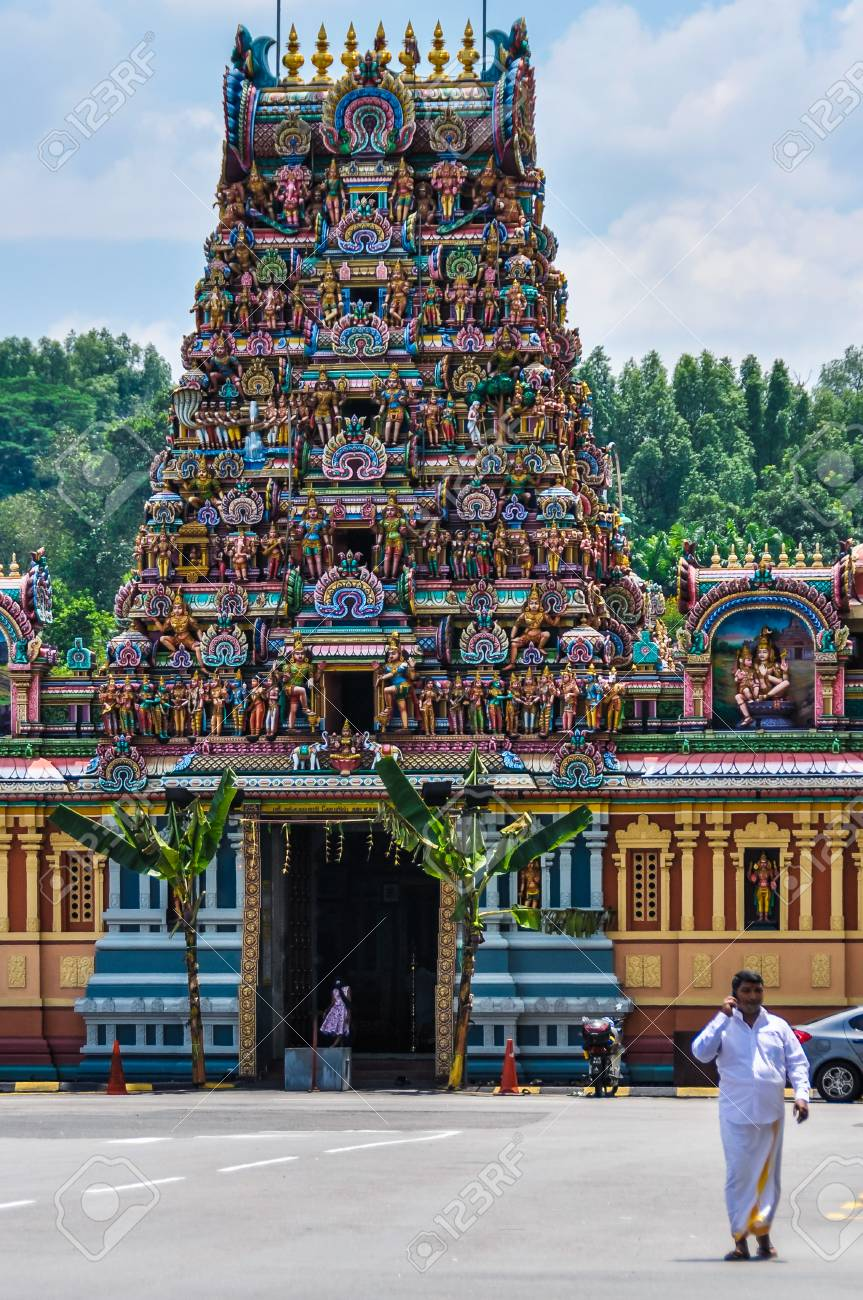Hindu Temple: (85, 7, 631, 1056)
